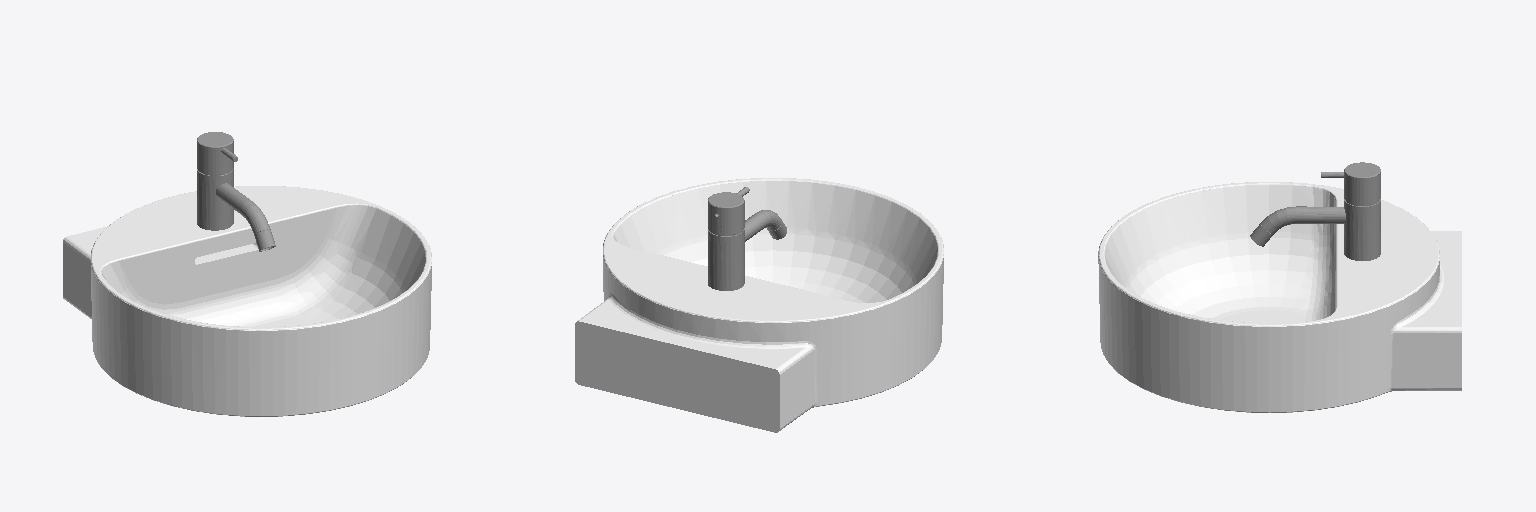
Rendered from Waschbecken.obj.
The picture shows the model from 3 angles: view 1: azimuth 30°, elevation 25°; view 2: azimuth 150°, elevation 25°; view 3: azimuth 270°, elevation 25°; orthographic projection.
Parts seen in each view (by area): view 1: Mesh26 Component_790 G_23_Waschbckeb_Armatur_dwg1 Model, Mesh1 Component_789 WTA_05__CADT_PBIB__DESIGN_BAD_ARMATUREN_WASC; view 2: Mesh26 Component_790 G_23_Waschbckeb_Armatur_dwg1 Model, Mesh1 Component_789 WTA_05__CADT_PBIB__DESIGN_BAD_ARMATUREN_WASC; view 3: Mesh26 Component_790 G_23_Waschbckeb_Armatur_dwg1 Model, Mesh1 Component_789 WTA_05__CADT_PBIB__DESIGN_BAD_ARMATUREN_WASC.
Part boxes in pixels (x1,y1,x2,y2): Mesh26 Component_790 G_23_Waschbckeb_Armatur_dwg1 Model: (63, 186, 431, 416); Mesh1 Component_789 WTA_05__CADT_PBIB__DESIGN_BAD_ARMATUREN_WASC: (197, 132, 275, 251); Mesh26 Component_790 G_23_Waschbckeb_Armatur_dwg1 Model: (575, 178, 943, 432); Mesh1 Component_789 WTA_05__CADT_PBIB__DESIGN_BAD_ARMATUREN_WASC: (708, 187, 786, 290); Mesh26 Component_790 G_23_Waschbckeb_Armatur_dwg1 Model: (1098, 182, 1461, 412); Mesh1 Component_789 WTA_05__CADT_PBIB__DESIGN_BAD_ARMATUREN_WASC: (1250, 162, 1380, 260).
Size of the model in its own units: 38.96 by 21.73 by 41.4.